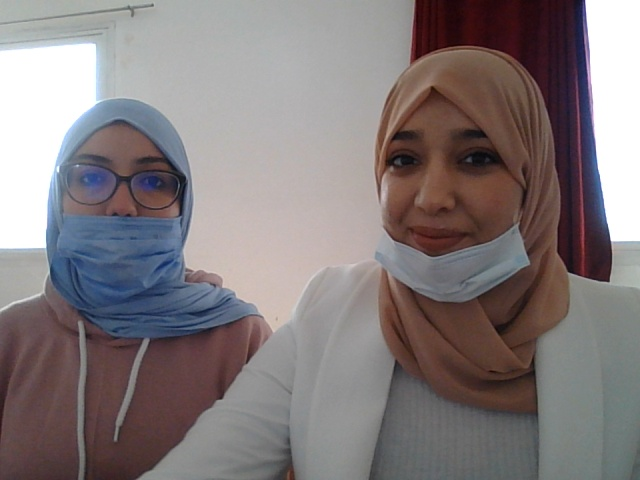mask_weared_incorrect: (344, 47, 550, 305), (50, 94, 214, 293)
